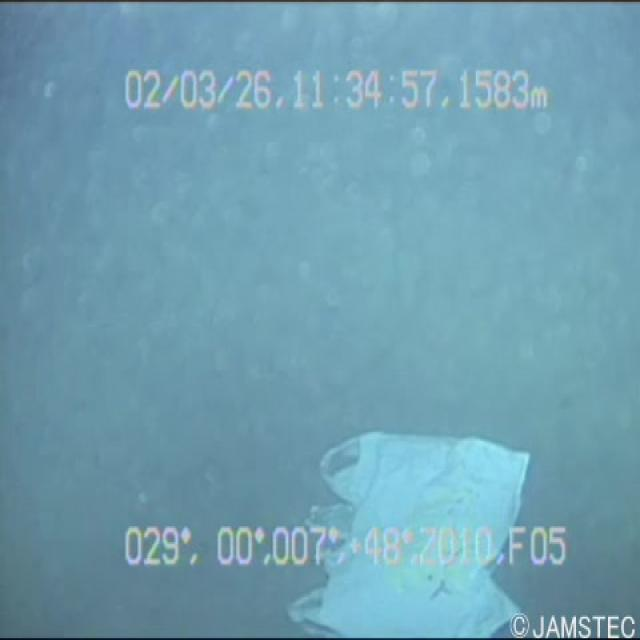plastic: (284, 396, 533, 638)
